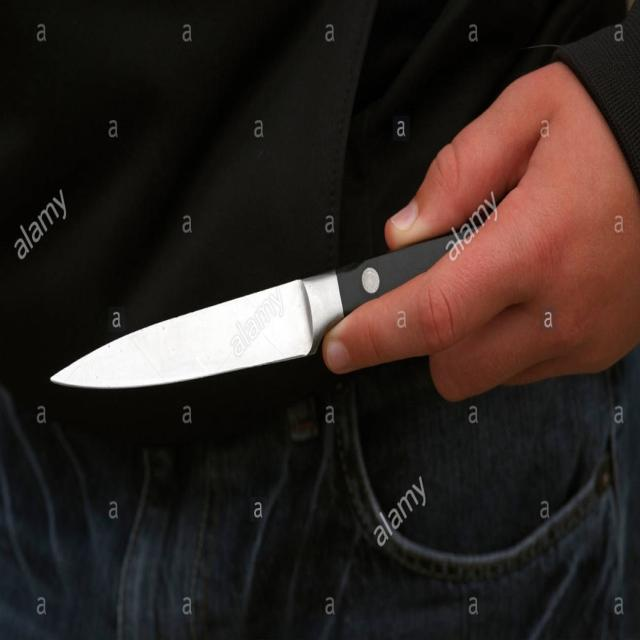knife: (44, 227, 478, 396)
